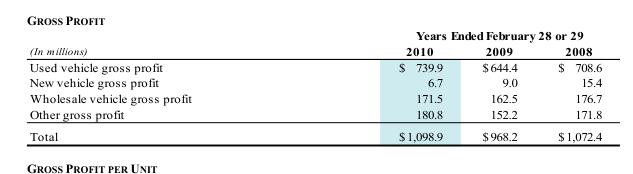table: (28, 28, 601, 142)
table column: (28, 28, 294, 142), (294, 28, 461, 142), (461, 28, 537, 142), (537, 28, 601, 142)
table column header: (28, 28, 601, 58)
table row: (28, 106, 601, 125), (28, 125, 601, 142), (28, 58, 601, 74), (28, 74, 601, 90), (28, 90, 601, 106), (28, 28, 601, 43), (28, 43, 601, 58)
table spanning cell: (28, 28, 294, 58), (294, 28, 601, 43)
